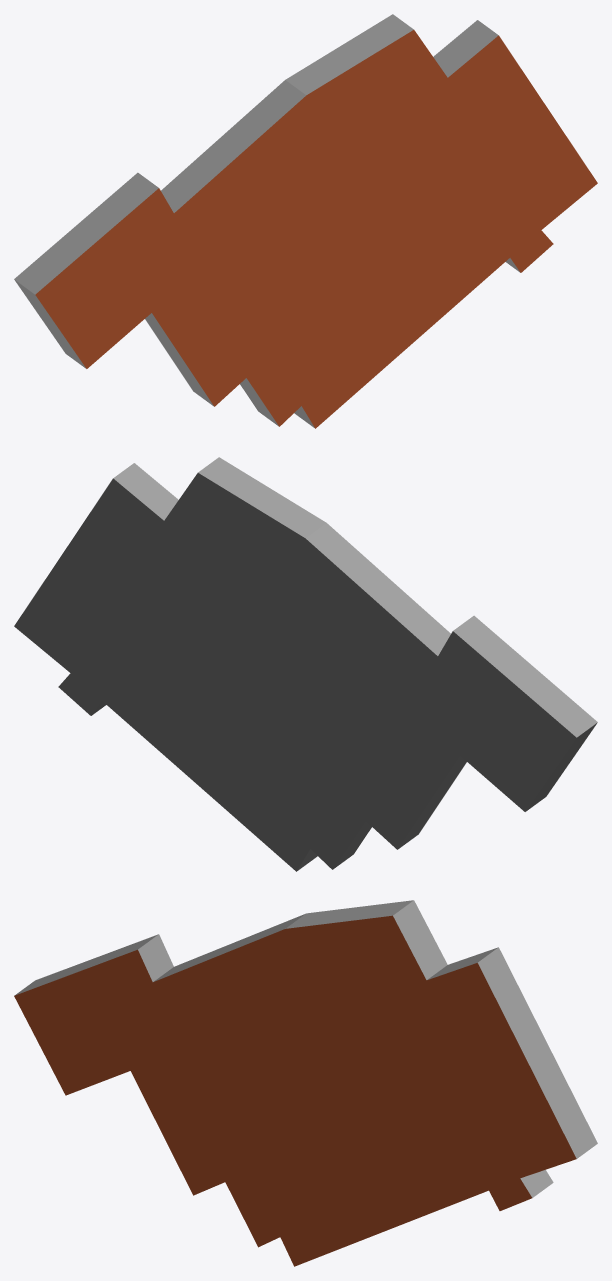
The model's file is construction_2939_assumed_A_Casa_h6m.obj.
The picture shows the model from 3 angles, top to bottom: view 1: azimuth 30°, elevation 25°; view 2: azimuth 150°, elevation 25°; view 3: azimuth 330°, elevation 25°; orthographic projection.
Parts seen in each view (by area): view 1: construction_2939_assumed_A_Casa; view 2: construction_2939_assumed_A_Casa; view 3: construction_2939_assumed_A_Casa.
Part boxes in pixels (x1=…): construction_2939_assumed_A_Casa: x1=14, y1=14, x2=597, y2=428; construction_2939_assumed_A_Casa: x1=14, y1=457, x2=597, y2=871; construction_2939_assumed_A_Casa: x1=14, y1=900, x2=597, y2=1266.
Bounding box in the file's own units: 91.88 × 58.53 × 6.
